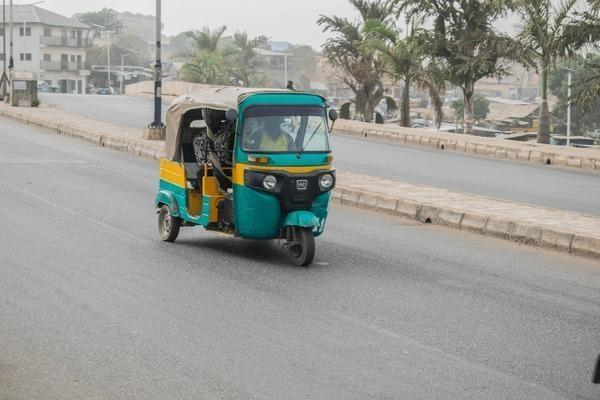keke: (153, 82, 338, 272)
